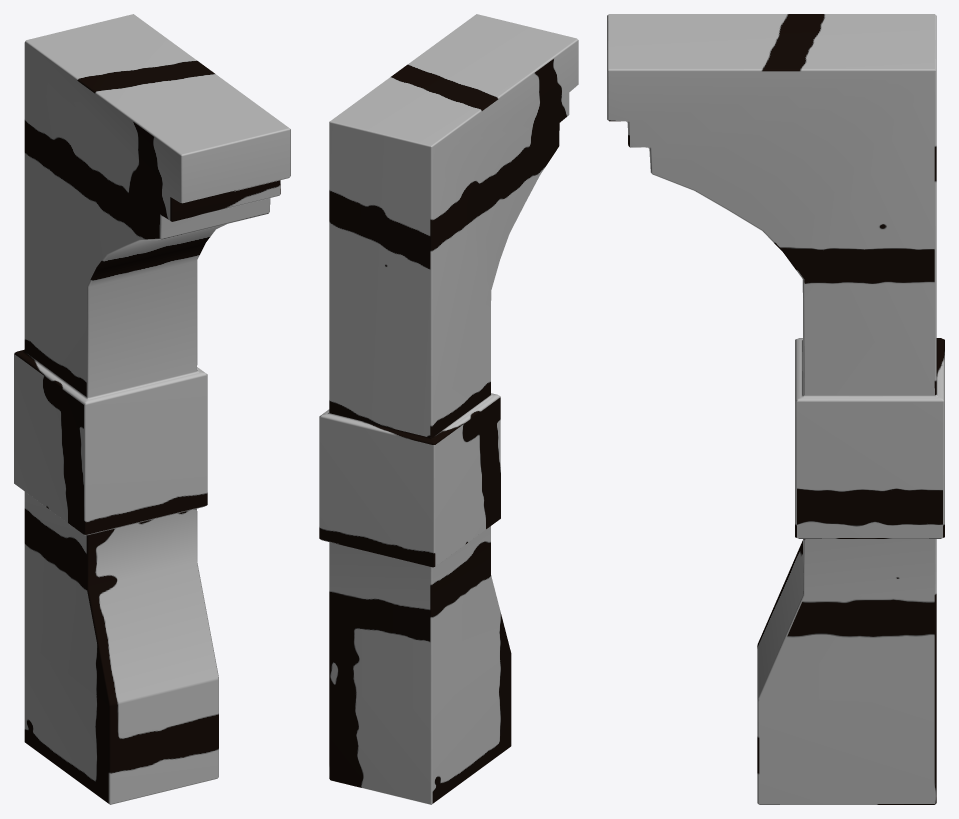
File: Column.fbx
3 views of the same model, side by side, from view 1: azimuth 30°, elevation 25°; view 2: azimuth 150°, elevation 25°; view 3: azimuth 270°, elevation 25° (orthographic). The views are drawn at different scales.
Parts seen in each view (by area): view 1: Column; view 2: Column; view 3: Column.
Boxes of the visible parts, left/top/right/bottom form: Column: left=14, top=14, right=290, bottom=804; Column: left=319, top=14, right=578, bottom=804; Column: left=607, top=14, right=944, bottom=804.
Size of the model in its own units: 18.43 by 100 by 41.58.
1 material, 1 textured.
